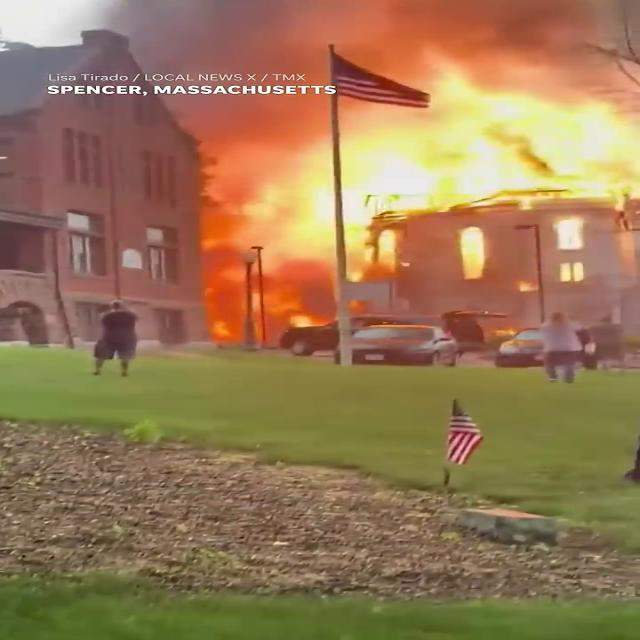Fire: (240, 53, 636, 330)
Smoke: (94, 2, 480, 117)
